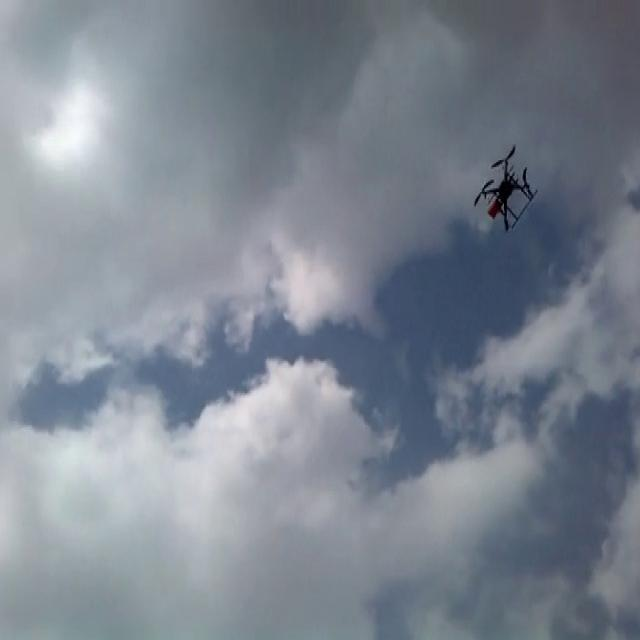drone: (470, 141, 538, 237)
